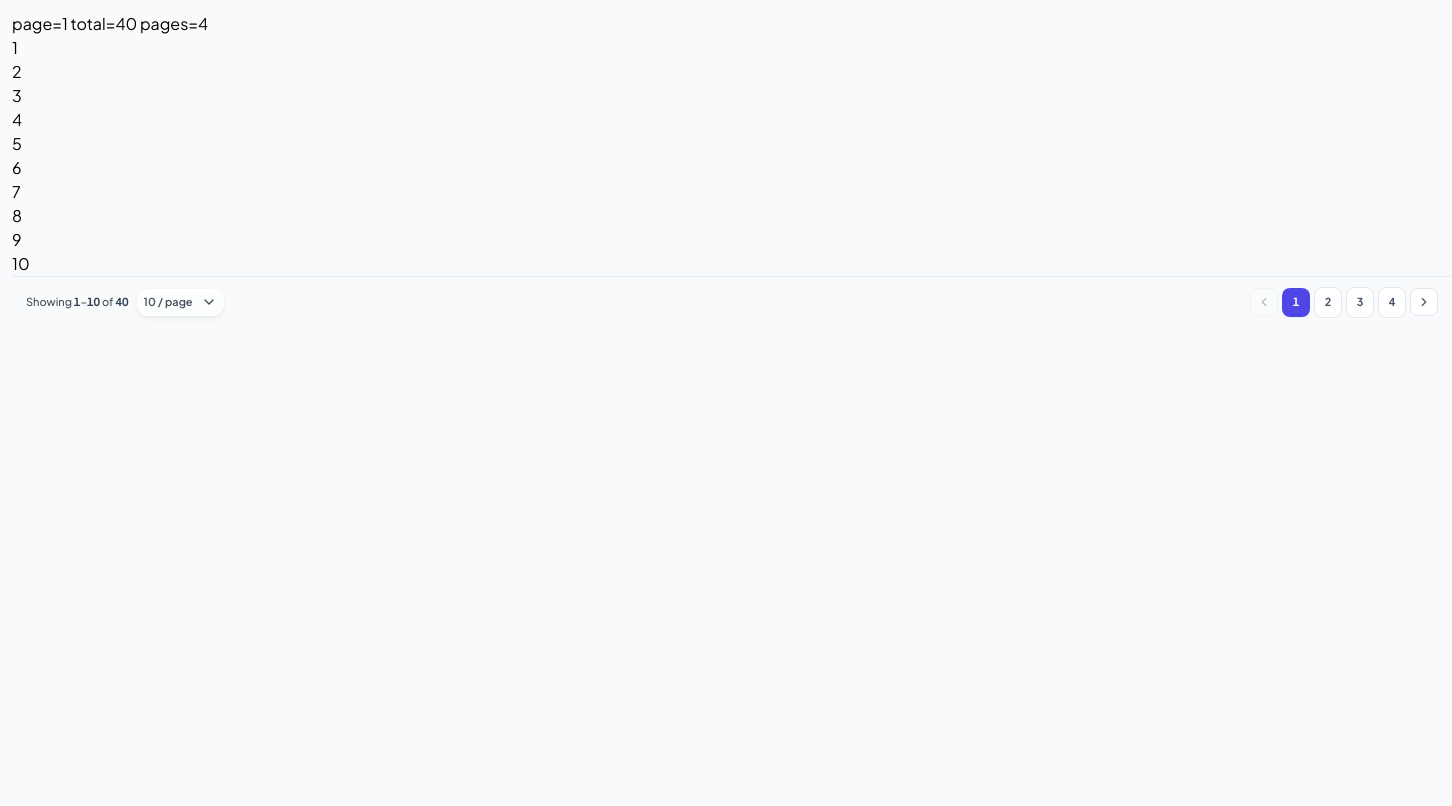
Test: usePagination › re-slices from the top when the page size changes
The image size is (1452, 806).
What coordinates should you click on to do the following:
click the button named "Page 4"
I would click on:
 (1392, 302)
Its box is x1=1378 y1=287 x2=1406 y2=318.
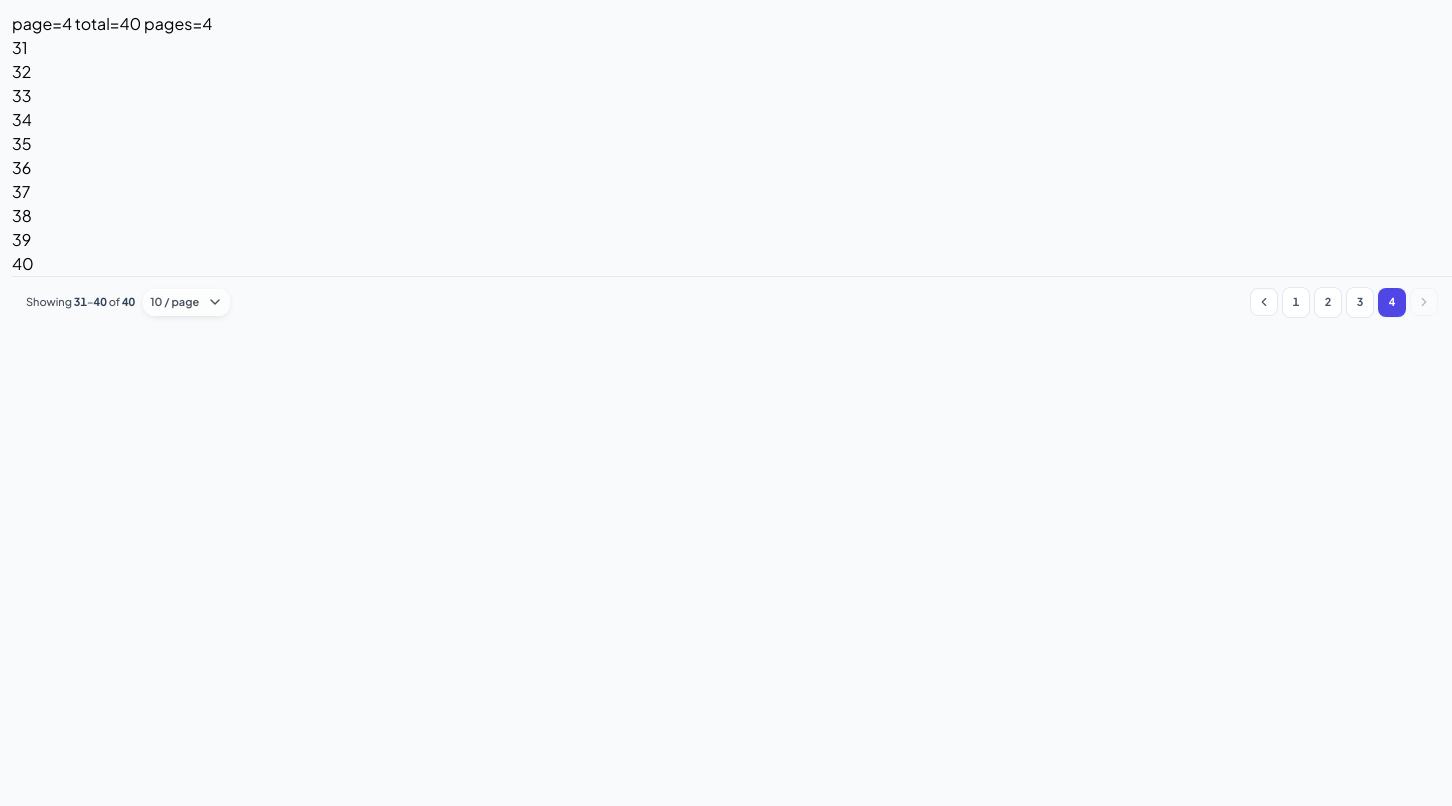
Check: the text with test id "meta" reads "page=4 total=40 pages=4", box x1=12 y1=13 x2=212 y2=34
What coordinates should you click on to do the following:
click the button with aria-label "rows per page"
I would click on:
 (187, 302)
Its box is x1=143 y1=289 x2=230 y2=316.
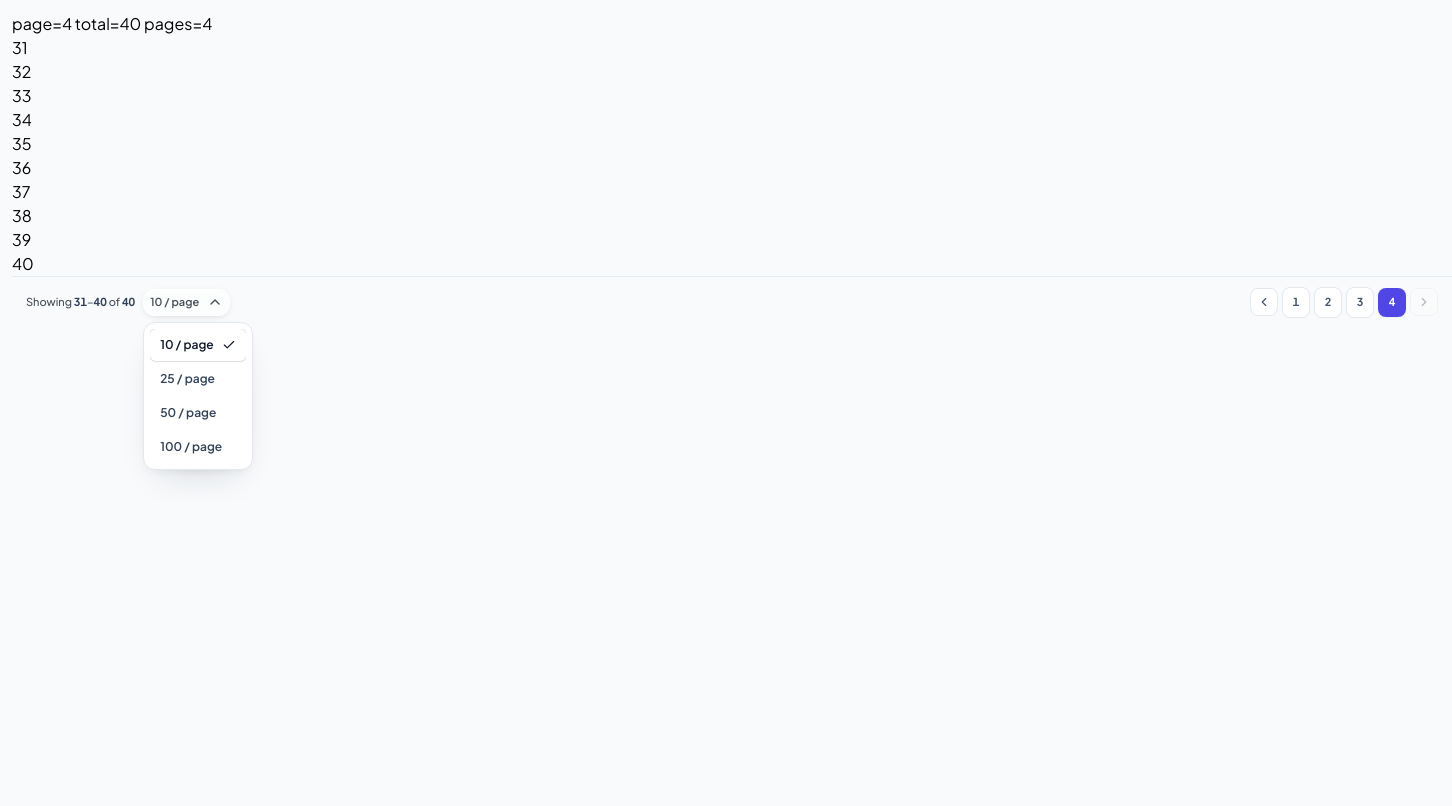
What coordinates should you click on to do the following:
click the option "50 / page"
I would click on:
 (198, 412)
Its box is x1=150 y1=396 x2=246 y2=428.
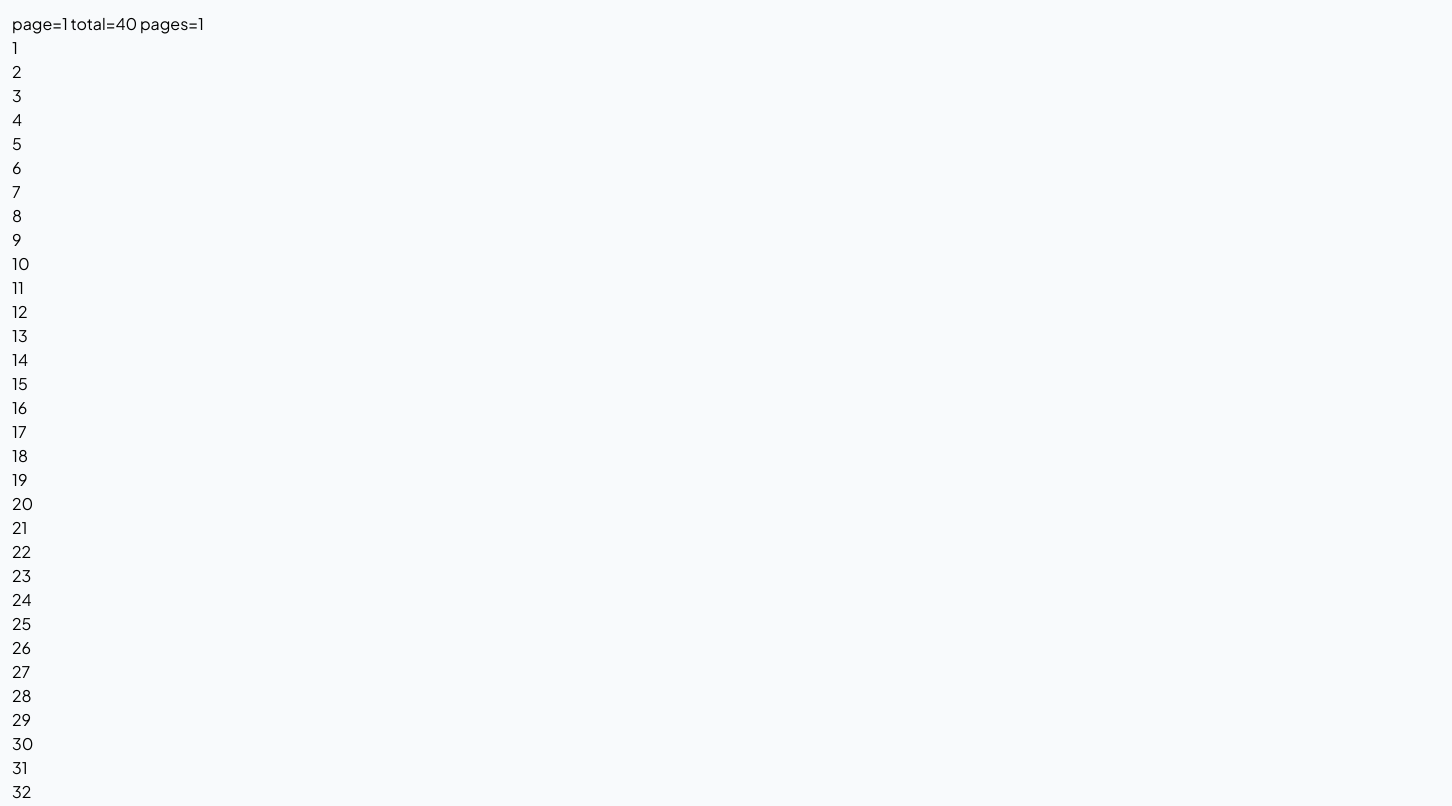
Check: the text with test id "meta" reads "page=1 total=40 pages=1", box x1=12 y1=13 x2=204 y2=34
